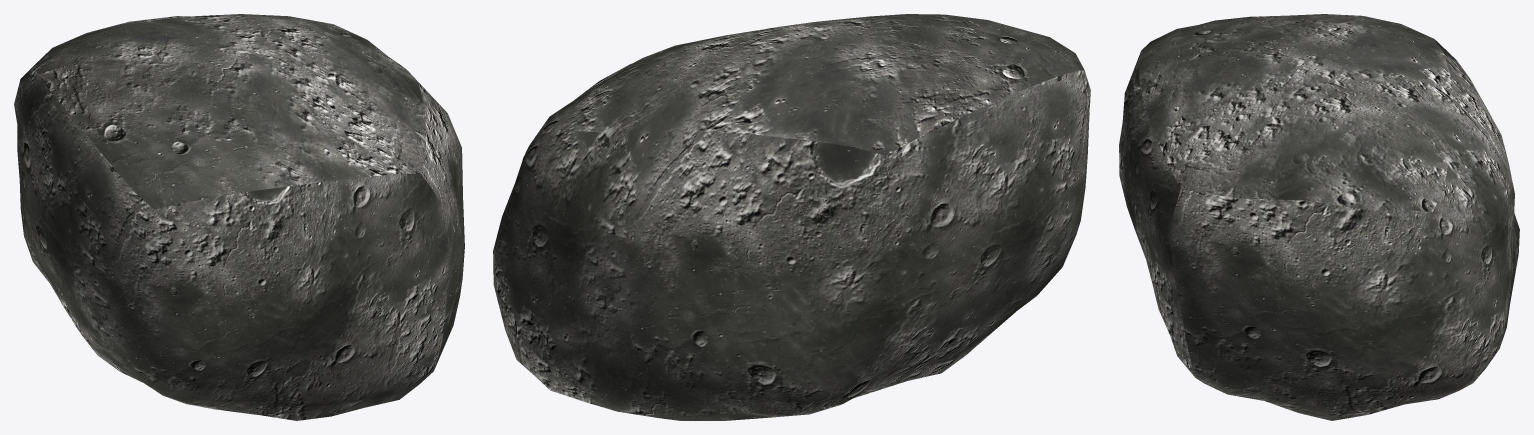
The model's file is Meteor.fbx.
3 views of the same model, side by side, from view 1: azimuth 30°, elevation 25°; view 2: azimuth 150°, elevation 25°; view 3: azimuth 270°, elevation 25° (orthographic). The views are drawn at different scales.
Parts seen in each view (by area): view 1: pCube1; view 2: pCube1; view 3: pCube1.
Part boxes in pixels (<box>): pCube1: <box>14,14,464,420</box>; pCube1: <box>493,14,1090,420</box>; pCube1: <box>1119,14,1519,420</box>.
Bounding box in the file's own units: 0.0225 × 0.0174 × 0.0212.
Materials: 1 (1 with a texture image).
